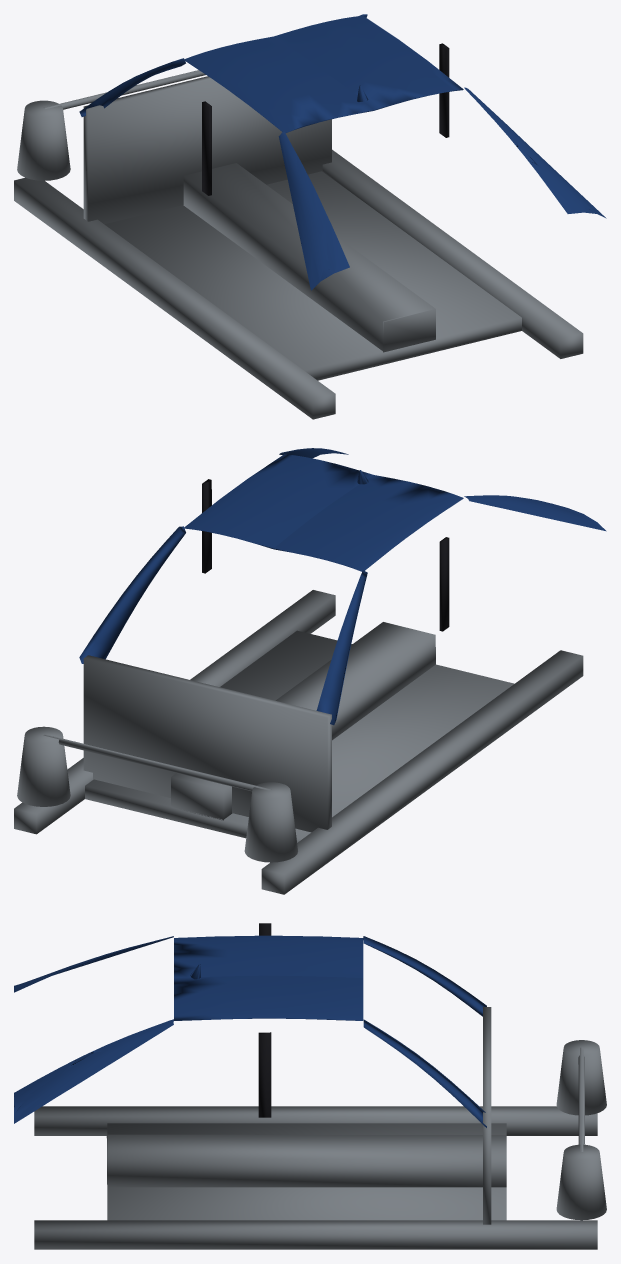
The model's file is body-framework.glb.
3 views of the same model, one above another, from view 1: azimuth 30°, elevation 25°; view 2: azimuth 150°, elevation 25°; view 3: azimuth 270°, elevation 25° (orthographic). The views are drawn at different scales.
Parts seen in each view (by area): view 1: GEO_Chassis_Floorpan, GEO_Firewall_Strut_Towers, GEO_Roof_Panel, GEO_C_Pillars, GEO_B_Pillars, GEO_A_Pillar_R; view 2: GEO_Chassis_Floorpan, GEO_Firewall_Strut_Towers, GEO_Roof_Panel, GEO_A_Pillar_L, GEO_A_Pillar_R, GEO_C_Pillars, GEO_B_Pillars; view 3: GEO_Chassis_Floorpan, GEO_Roof_Panel, GEO_Firewall_Strut_Towers, GEO_C_Pillars, GEO_A_Pillar_L, GEO_A_Pillar_R, GEO_B_Pillars.
Boxes of the visible parts, x1,y1,x2,y2 form: GEO_Chassis_Floorpan: (14,149,583,419); GEO_Firewall_Strut_Towers: (17,70,331,224); GEO_Roof_Panel: (184,15,463,133); GEO_C_Pillars: (278,87,606,290); GEO_B_Pillars: (202,43,449,195); GEO_A_Pillar_R: (79,58,185,116); GEO_Chassis_Floorpan: (14,590,583,894); GEO_Firewall_Strut_Towers: (17,655,331,862); GEO_Roof_Panel: (184,454,463,571); GEO_A_Pillar_L: (79,526,185,663); GEO_A_Pillar_R: (316,570,367,725); GEO_C_Pillars: (279,448,606,531); GEO_B_Pillars: (202,479,449,631); GEO_Chassis_Floorpan: (34,1106,597,1249); GEO_Roof_Panel: (174,935,363,1020); GEO_Firewall_Strut_Towers: (483,1007,606,1224); GEO_C_Pillars: (14,936,173,1123); GEO_A_Pillar_L: (363,1019,486,1127); GEO_A_Pillar_R: (363,936,486,1016); GEO_B_Pillars: (258,923,271,1117).
Bounding box in the file's own units: 1.77 × 1.35 × 3.26.
